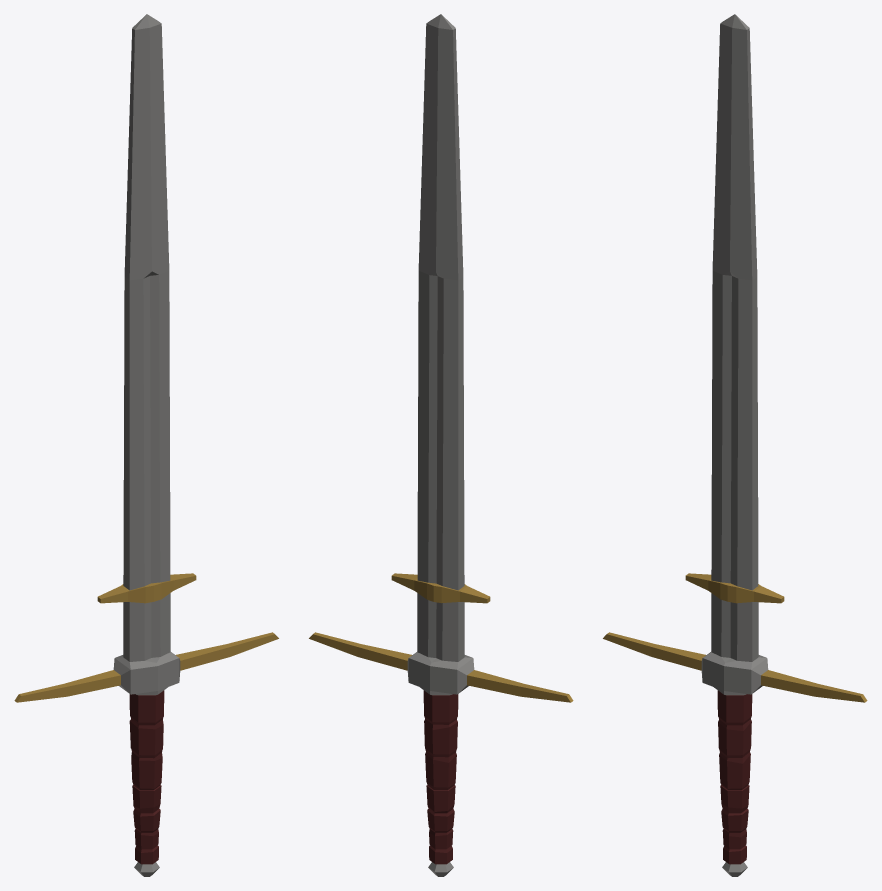
Rendered from TwoHandedSword_B_Stylized.glb.
3 views of the same model, side by side, from view 1: azimuth 30°, elevation 25°; view 2: azimuth 150°, elevation 25°; view 3: azimuth 330°, elevation 25° (orthographic).
Visible parts, largest first — view 1: TwoHandedSword_B_Stylized; view 2: TwoHandedSword_B_Stylized; view 3: TwoHandedSword_B_Stylized.
Boxes of the visible parts, x1,y1,x2,y2 form: TwoHandedSword_B_Stylized: (14,14,278,876); TwoHandedSword_B_Stylized: (309,14,573,876); TwoHandedSword_B_Stylized: (603,14,867,876).
Size of the model in its own units: 0.4069 by 1.28 by 0.0594.
Materials: 1 (1 with a texture image).
